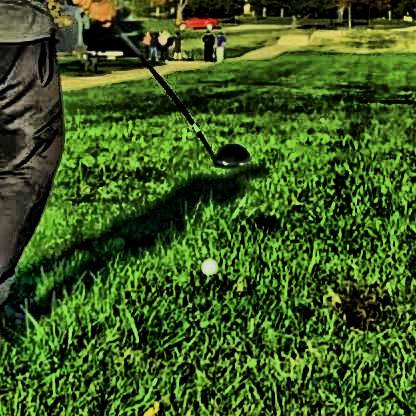golfball: (198, 254, 215, 273)
